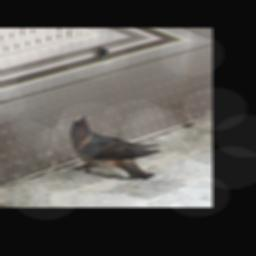Swallow: (67, 114, 162, 183)
